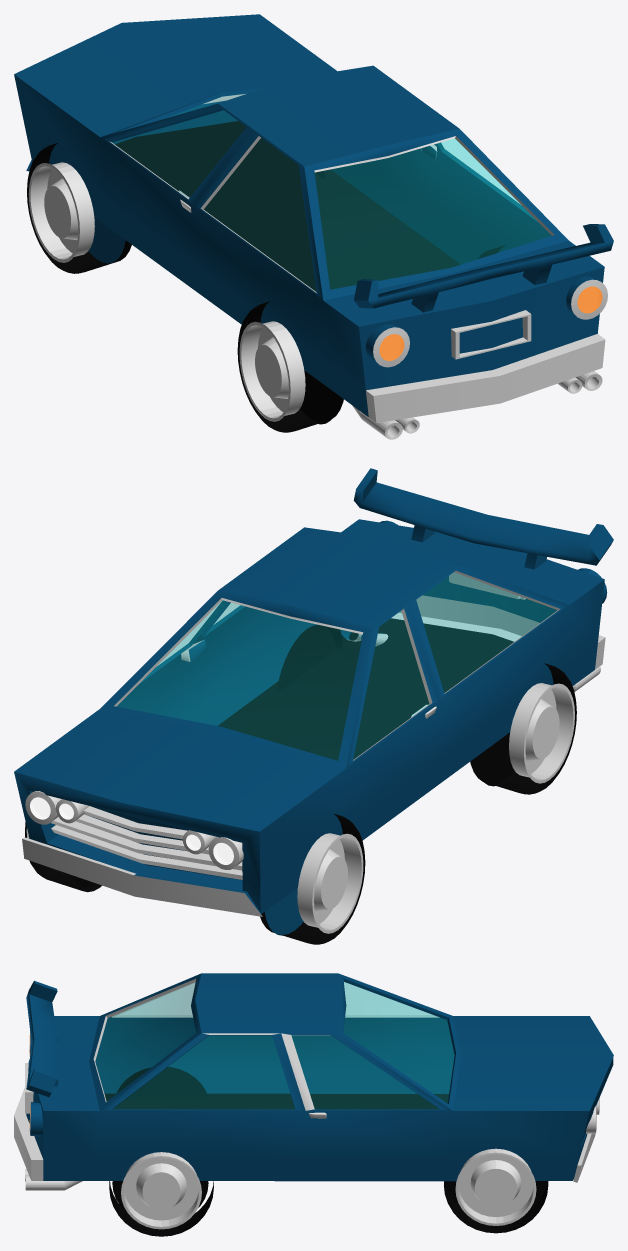
Rendered from blueLowPolyCar.glb.
The picture shows the model from 3 angles, top to bottom: view 1: azimuth 30°, elevation 25°; view 2: azimuth 150°, elevation 25°; view 3: azimuth 270°, elevation 25°; orthographic projection. The views are drawn at different scales.
Parts seen in each view (by area): view 1: Cube; view 2: Cube; view 3: Cube.
Boxes of the visible parts, x1,y1,x2,y2 form: Cube: (14,14,613,439); Cube: (14,468,613,944); Cube: (14,973,613,1236).
Bounding box in the file's own units: 6.47 × 5.08 × 14.76.
